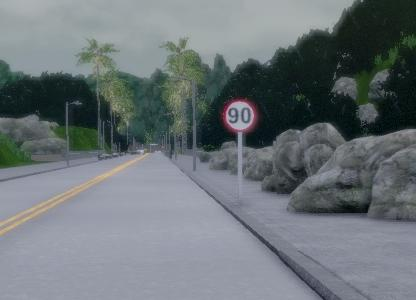Speed_90: (220, 96, 258, 135)
